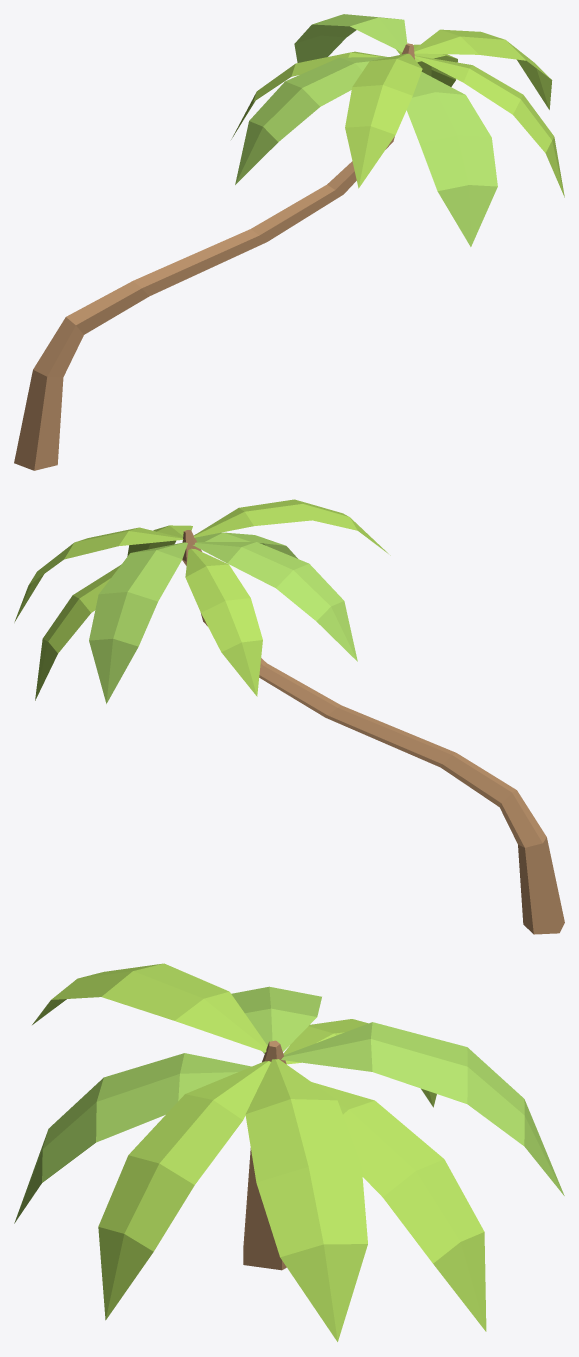
File: Palm_Tree_m_05.fbx
3 renders of one model, top to bottom at view 1: azimuth 30°, elevation 25°; view 2: azimuth 150°, elevation 25°; view 3: azimuth 270°, elevation 25°, orthographic. The views are drawn at different scales.
Parts seen in each view (by area): view 1: Palm_Tree_m_05; view 2: Palm_Tree_m_05; view 3: Palm_Tree_m_05.
Part boxes in pixels (x1,y1,x2,y2): Palm_Tree_m_05: (14, 14, 564, 470); Palm_Tree_m_05: (14, 499, 564, 934); Palm_Tree_m_05: (14, 963, 564, 1341).
Size of the model in its own units: 578 by 336 by 332.
